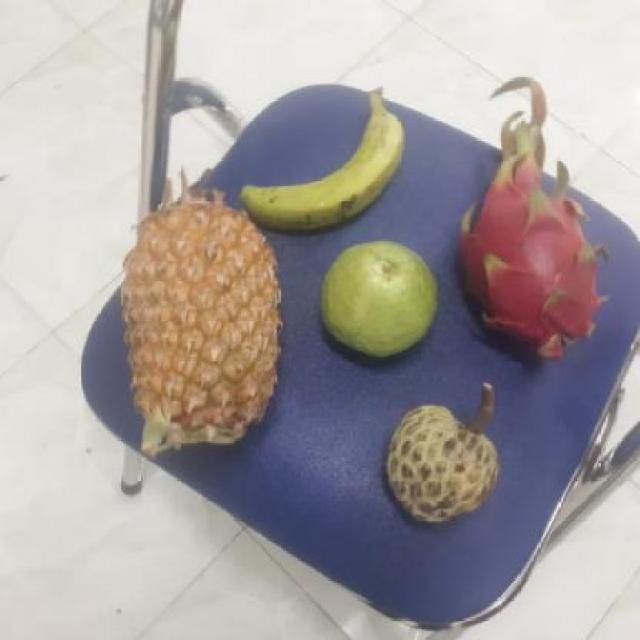banana: (233, 84, 401, 228)
dragon fruit: (450, 161, 596, 368)
guava: (312, 238, 437, 357)
pineapple: (116, 209, 279, 449)
sugar apple: (377, 401, 498, 525)
